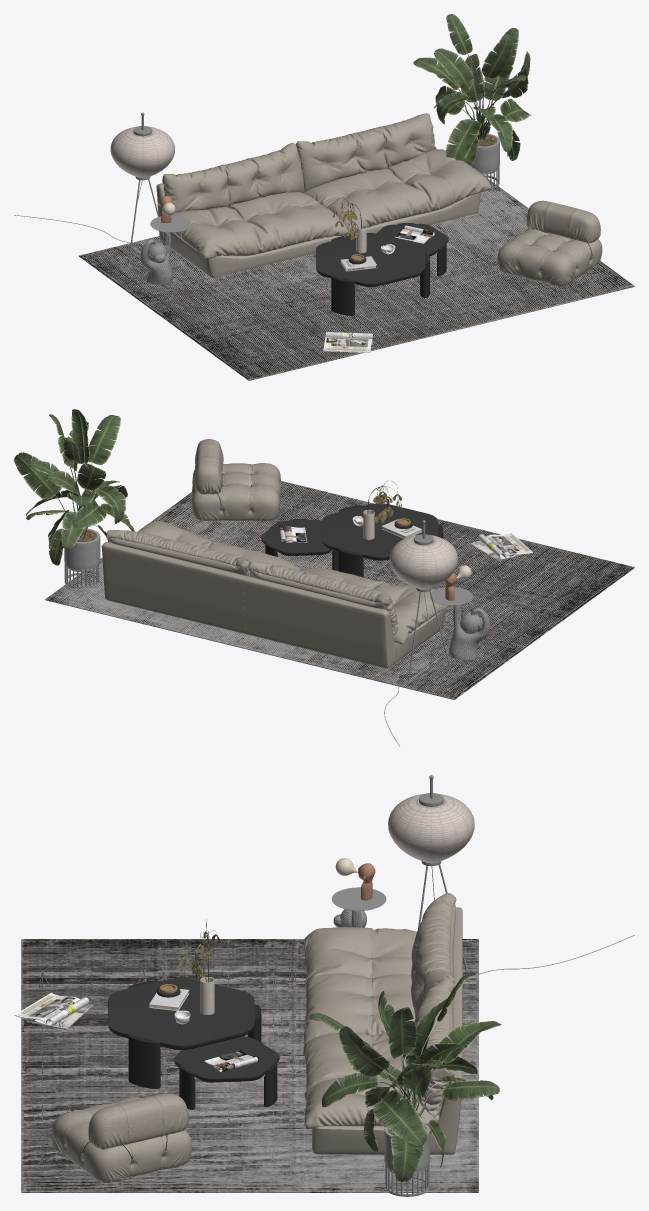
File: set_sofa_v.001.glb
3 views of the same model, one above another, from view 1: azimuth 30°, elevation 25°; view 2: azimuth 150°, elevation 25°; view 3: azimuth 270°, elevation 25° (orthographic). The views are drawn at different scales.
Parts seen in each view (by area): view 1: Material2 (×13); view 2: Material2 (×13); view 3: Material2 (×14).
Boxes of the visible parts, x1,y1,x2,y2 form: Material2 (×13): [14, 14, 634, 380]; Material2 (×13): [14, 409, 634, 746]; Material2 (×14): [14, 775, 634, 1196].
Size of what is drawn, in the model's own units: 184 by 61.52 by 167.
43 materials, 30 textured.
